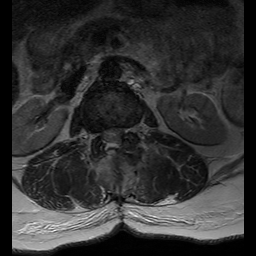CCS_normal: (108, 117, 116, 154)
LFS_stenosis: (124, 116, 134, 142)
LLS_normal: (116, 117, 124, 148)
RFS_stenosis: (93, 120, 100, 146)
RLS_normal: (100, 118, 108, 152)
